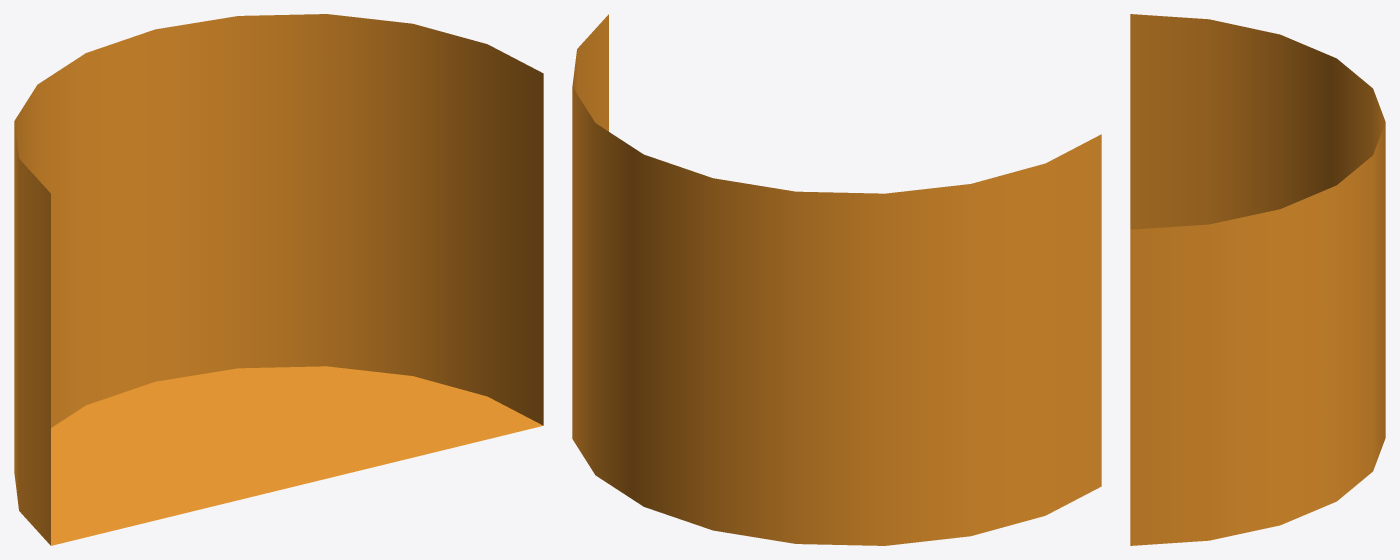
Rendered from Background_Mesh.fbx.
The picture shows the model from 3 angles, left to right: view 1: azimuth 30°, elevation 25°; view 2: azimuth 150°, elevation 25°; view 3: azimuth 270°, elevation 25°; orthographic projection. The views are drawn at different scales.
Parts seen in each view (by area): view 1: Background_Mesh; view 2: Background_Mesh; view 3: Background_Mesh.
Boxes of the visible parts, box(x1,y1,x2,y2) form: Background_Mesh: box(14, 14, 543, 545); Background_Mesh: box(572, 14, 1101, 545); Background_Mesh: box(1130, 14, 1385, 545).
Bounding box in the file's own units: 14774 × 10097 × 7387.
